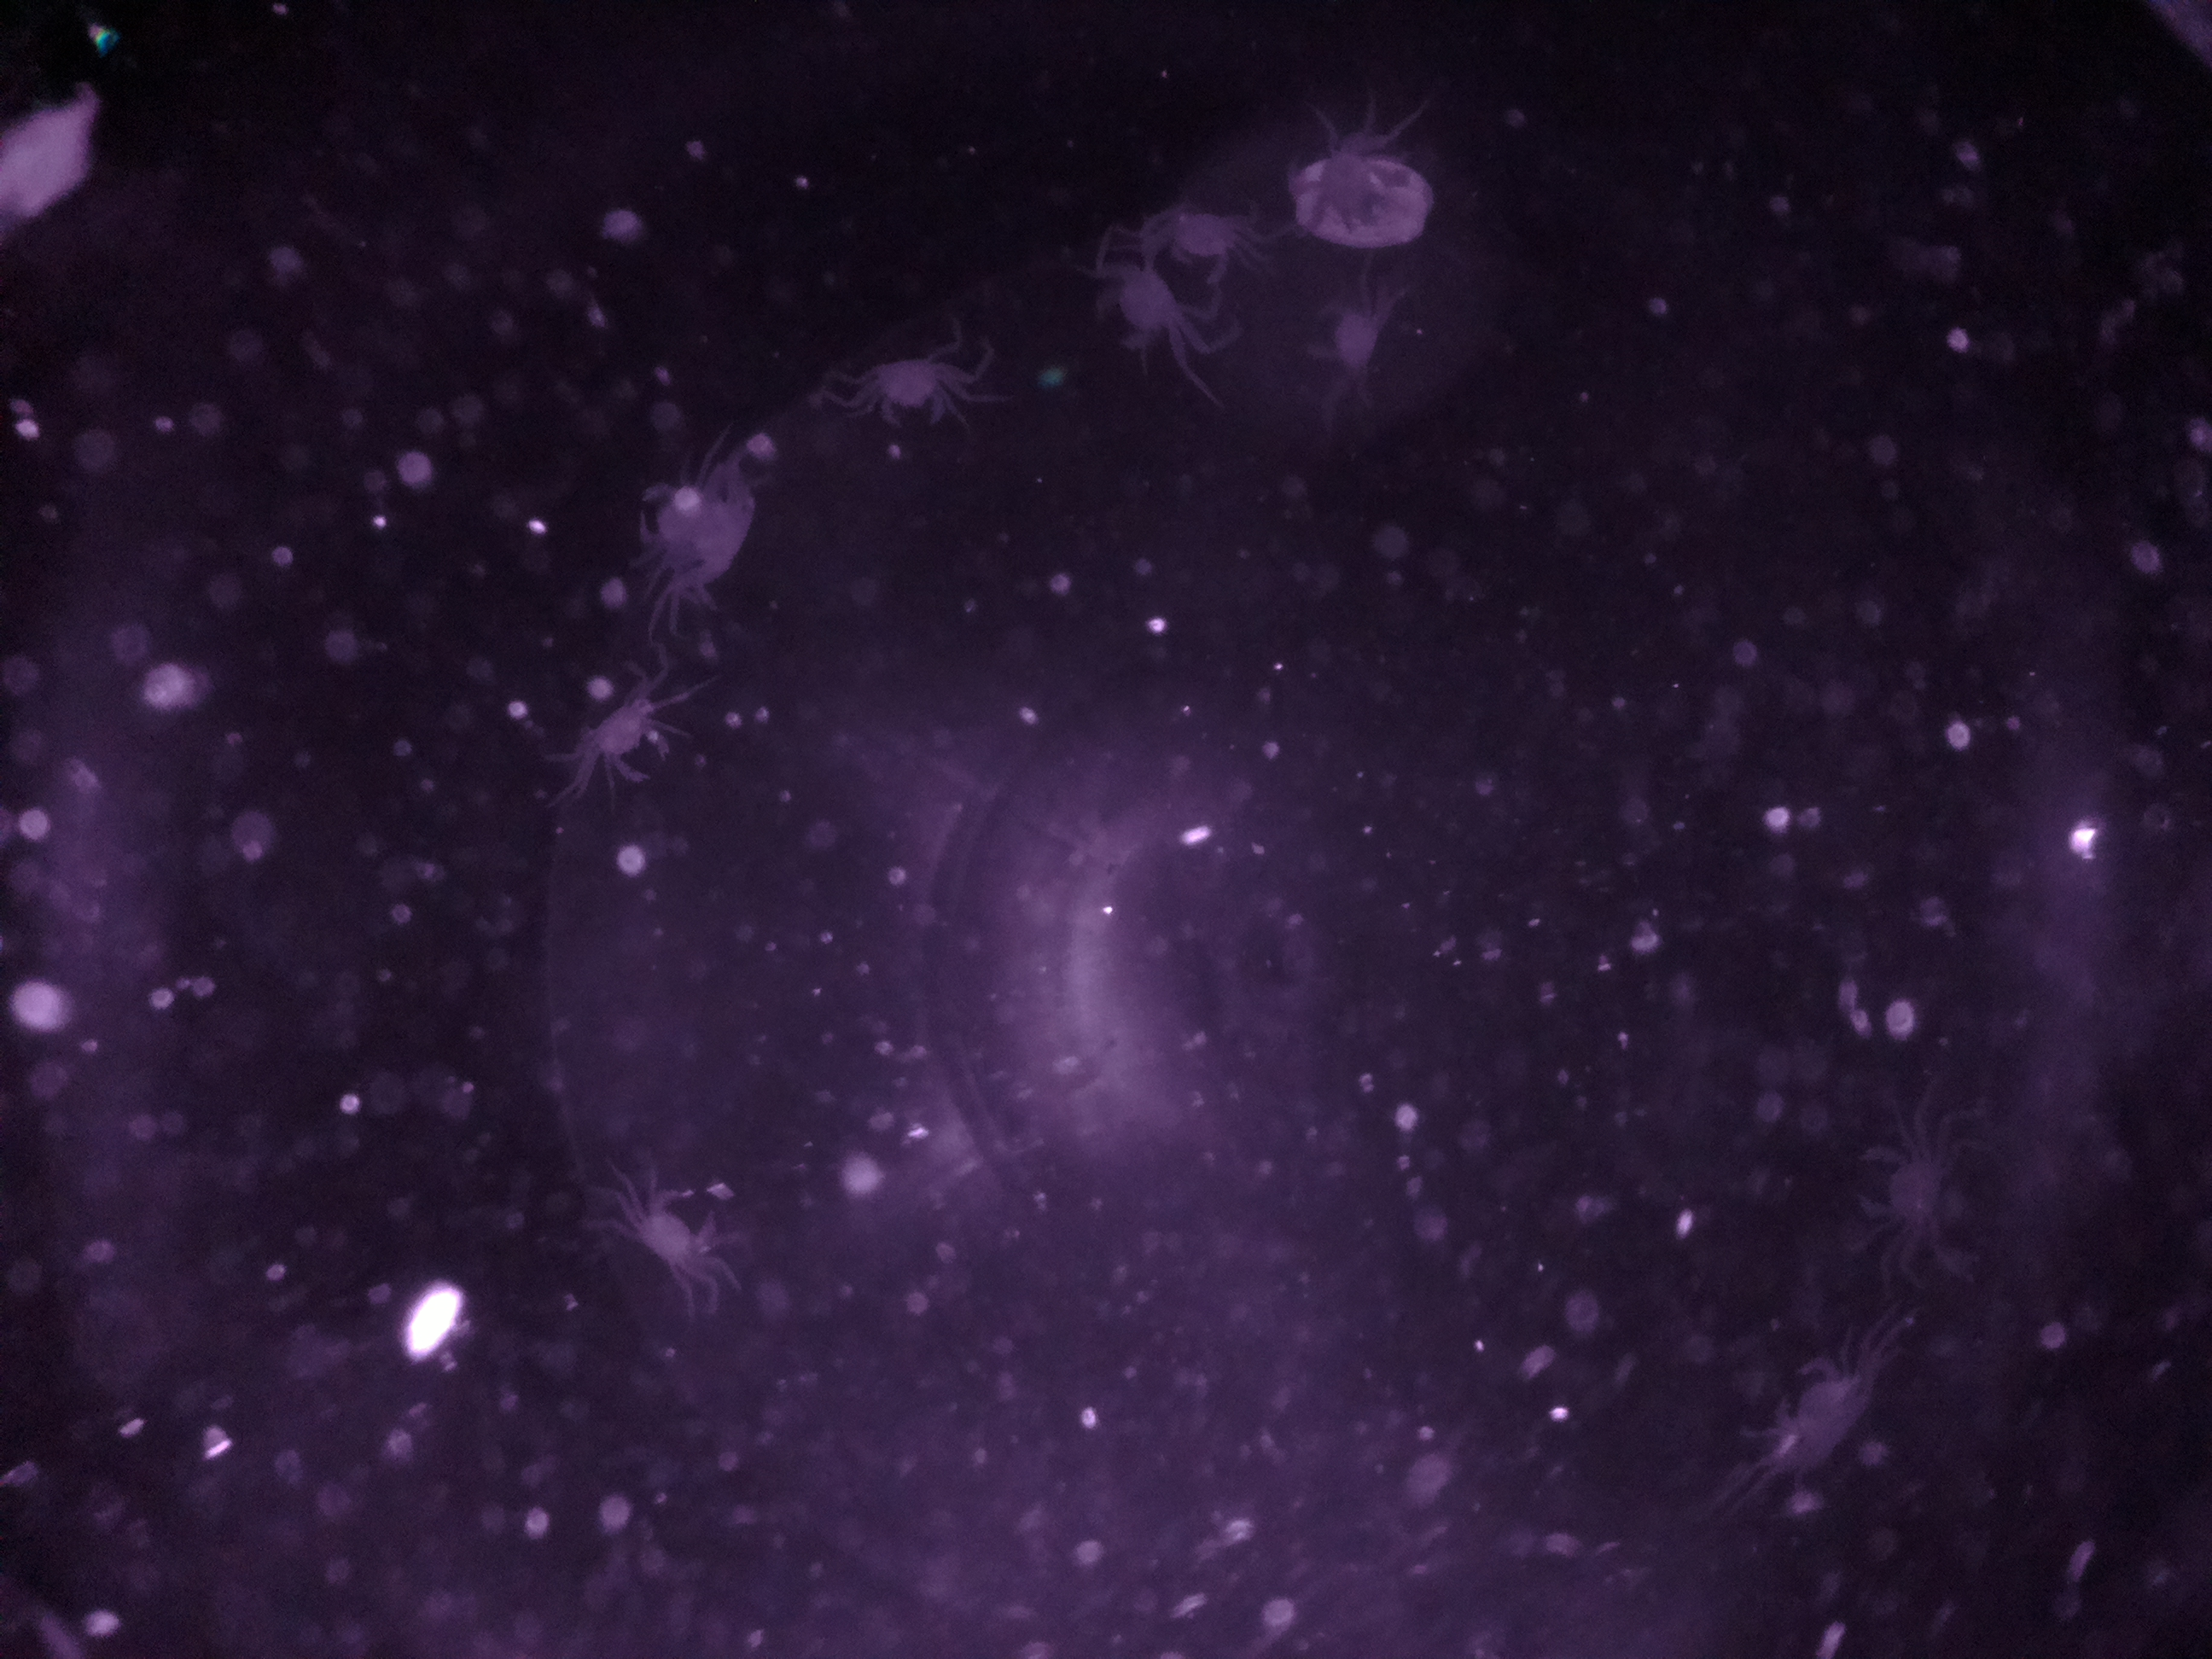Crab: (577, 680, 693, 800), (618, 1178, 738, 1295), (859, 329, 967, 451), (1078, 247, 1195, 359), (1163, 176, 1266, 293)
